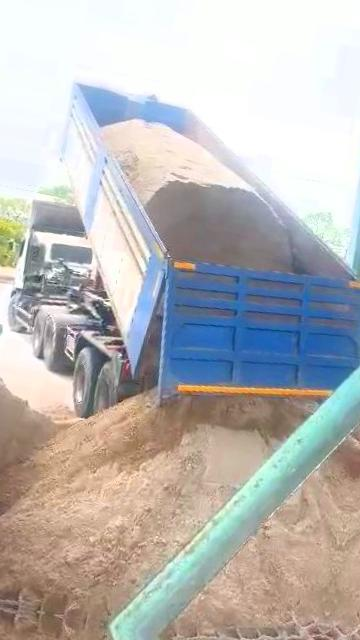sand: (0, 395, 306, 623), (176, 417, 360, 632), (101, 120, 294, 271), (0, 375, 83, 477)
